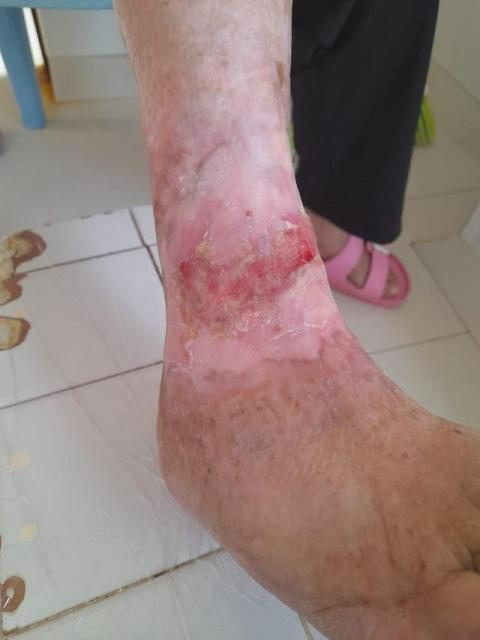wound: (173, 211, 322, 335)
